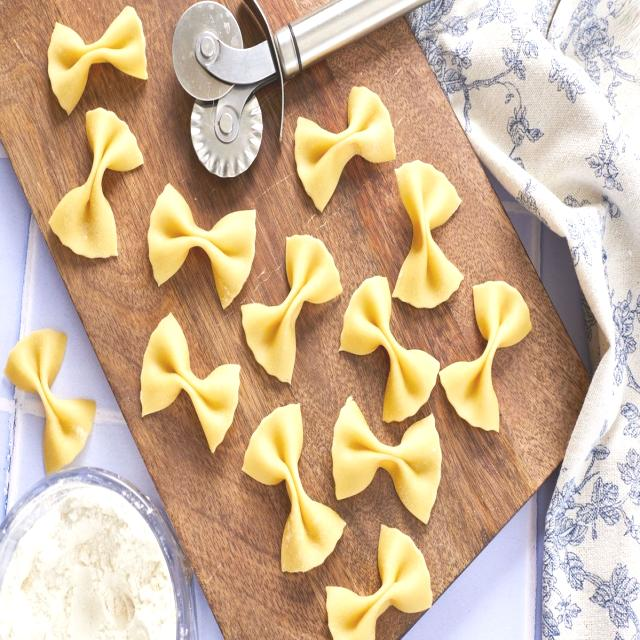pasta: (223, 164, 468, 560)
